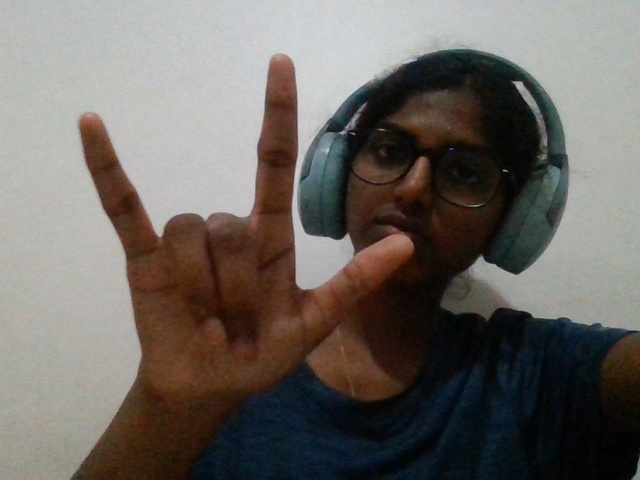I Love You: (27, 48, 424, 442)
